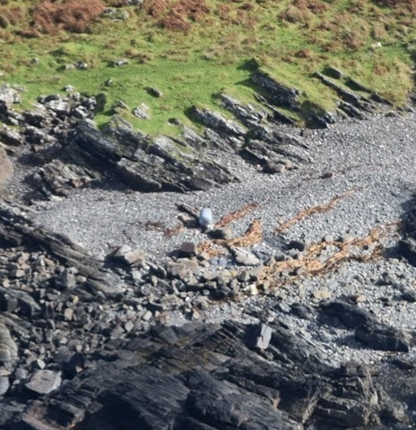white_in_green: (177, 192, 237, 244)
